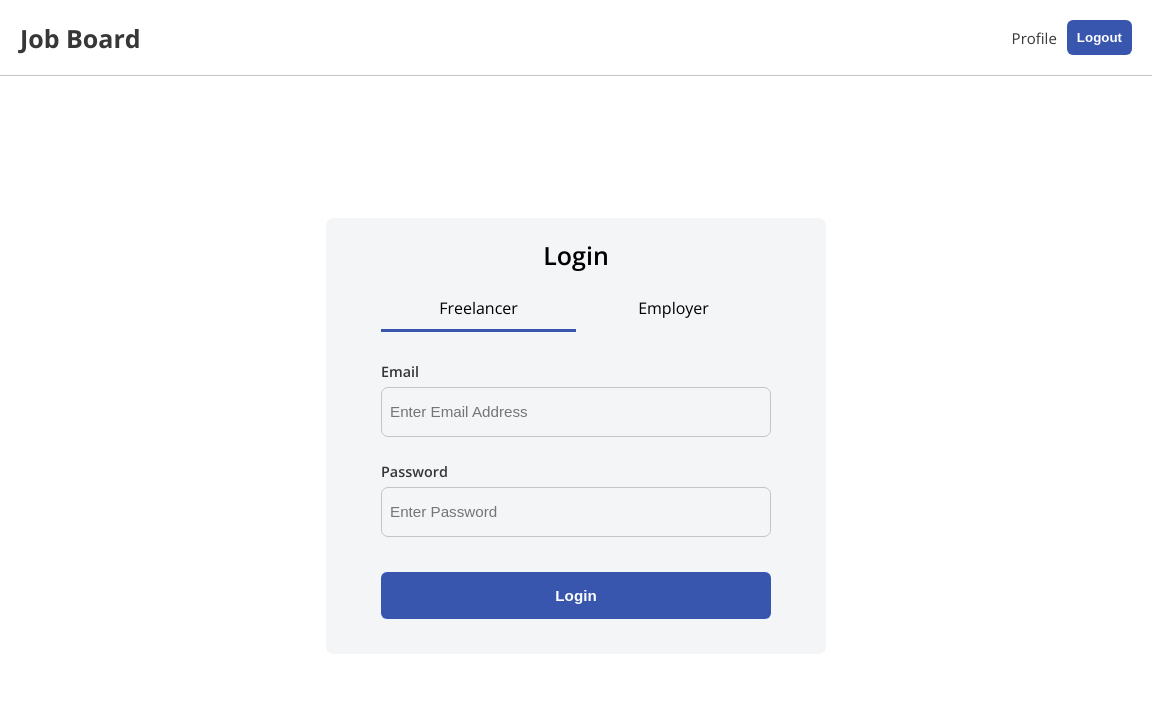
Test: Login › it should not submit and show input field error if we have entered invalid value
Expected: the password field labelled "Password" is shown, [381,487,771,537]
Type "asdasd" into the field labelled "Email" at [576, 412], box [381,387,771,437]
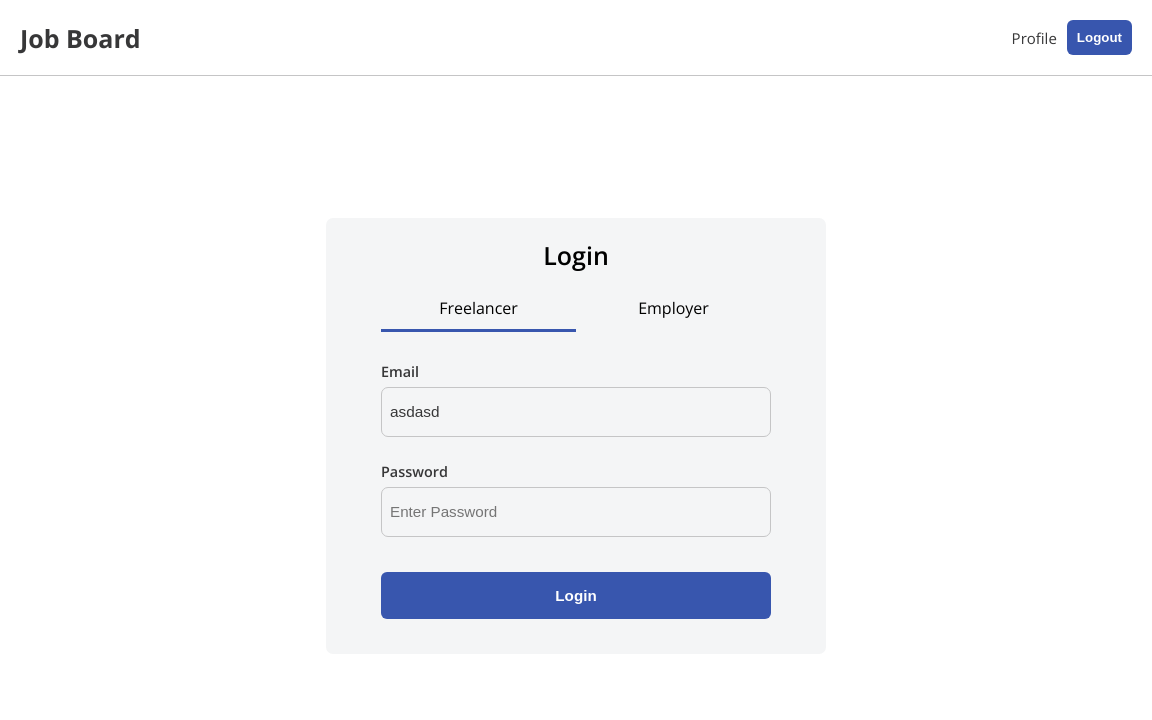
Type "password123" into the password field labelled "Password" at [576, 512], box [381,487,771,537]
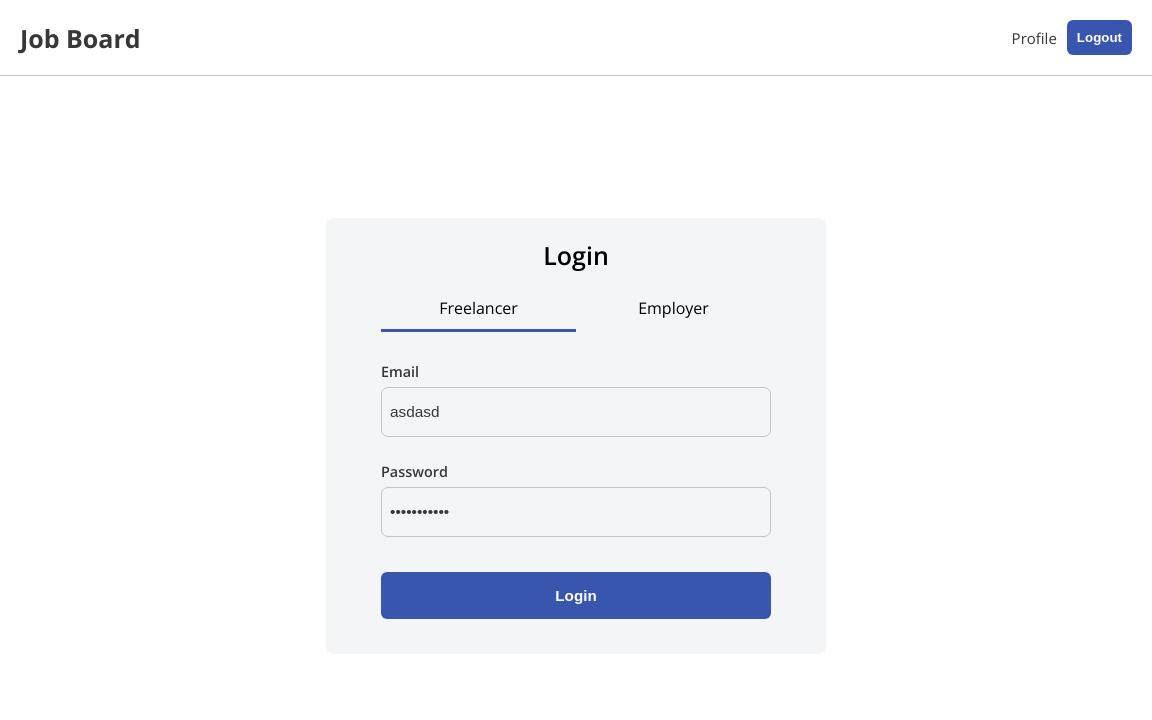
Click the button "Login" at [576, 596], box [381,572,771,619]
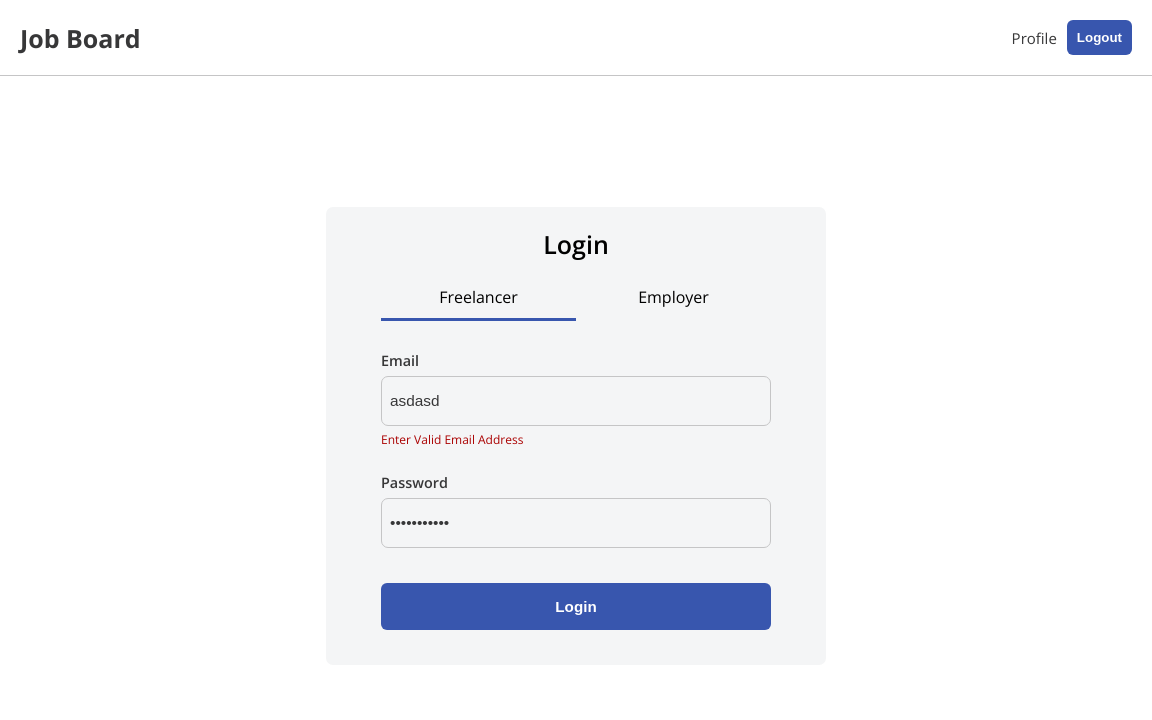
Expected: the text "Enter Valid Email Address" is shown, [381,431,523,448]
